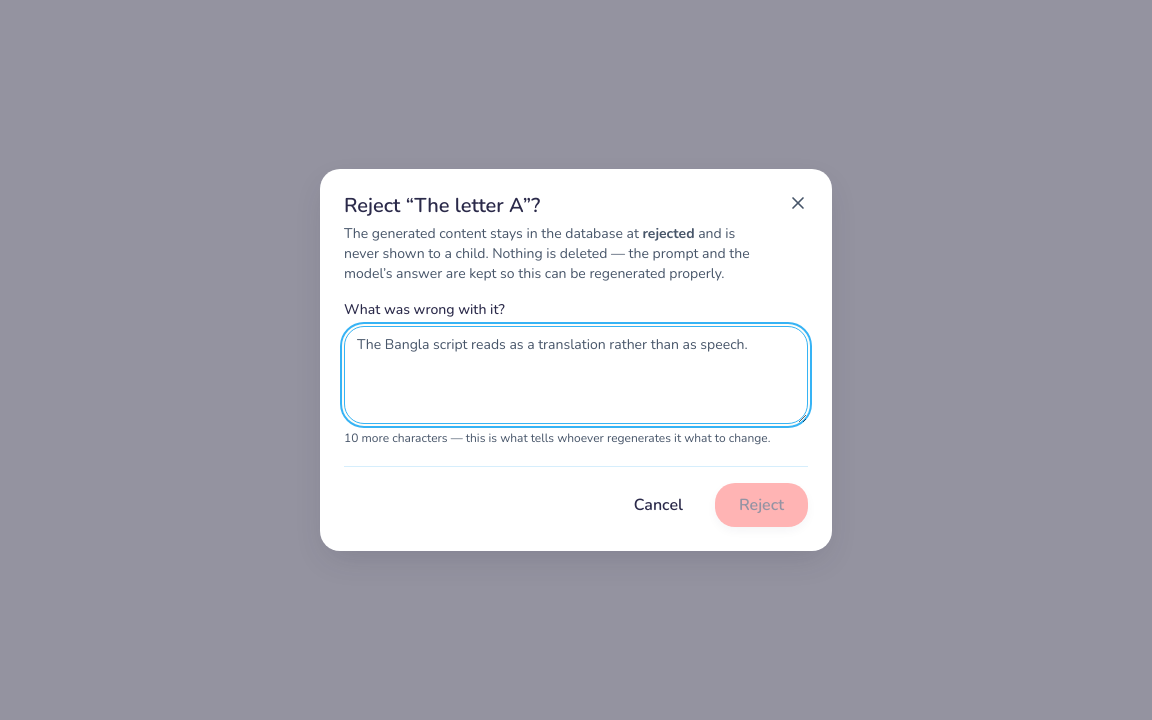
Test: RejectDialog › says how many more characters are needed
The width and height of the screenshot is (1152, 720).
Replace the text in the text box labelled "What was wrong with it?" with "bad" at point(576, 375), box x1=344 y1=326 x2=808 y2=424
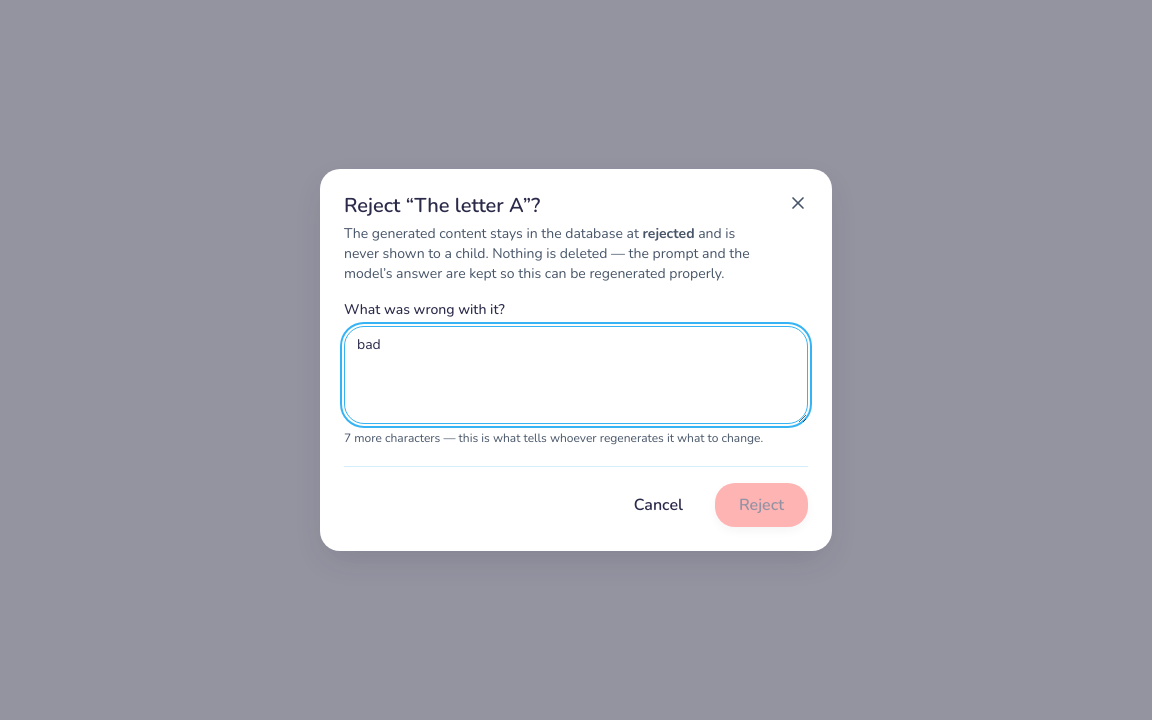
Check: the text "7 more characters" is shown, box x1=344 y1=430 x2=763 y2=446
